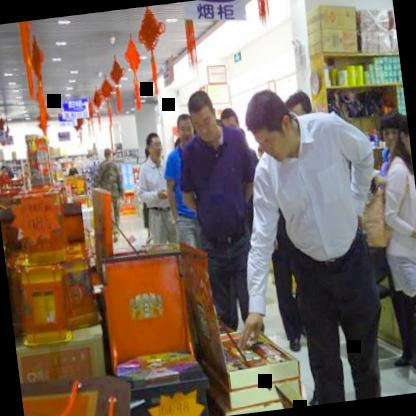head: (240, 85, 299, 166), (185, 89, 221, 142), (285, 88, 315, 132), (378, 110, 403, 156), (394, 108, 413, 168), (173, 110, 198, 150), (218, 104, 242, 141), (143, 126, 166, 164)
